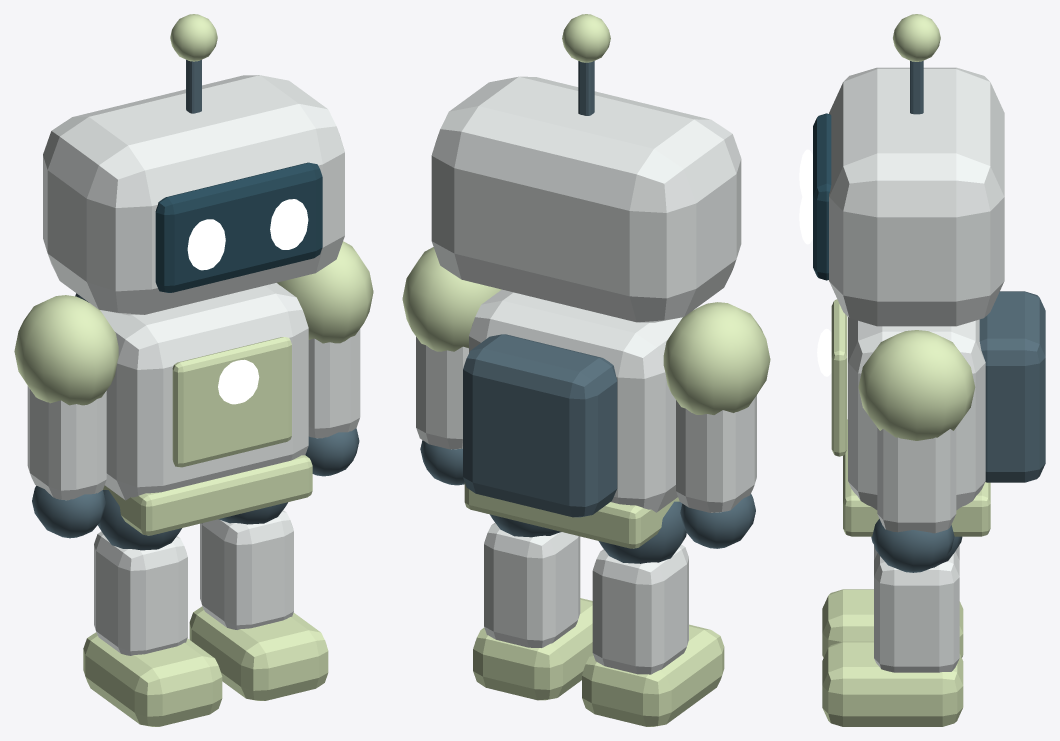
File: sage.glb
3 renders of one model, left to right at view 1: azimuth 30°, elevation 25°; view 2: azimuth 150°, elevation 25°; view 3: azimuth 270°, elevation 25°, orthographic. The views are drawn at different scales.
Parts seen in each view (by area): view 1: Head, Torso, Visor, Chest plate, Leg.017, Leg, Boot.017, Shoulder.017, Boot, Belt, Arm.017, Shoulder (+10 smaller); view 2: Head, Pack, Torso, Leg.017, Leg, Shoulder.017, Boot.017, Arm.017, Boot, Shoulder, Belt, Arm (+6 smaller); view 3: Head, Pack, Shoulder, Torso, Boot, Leg, Arm, Boot.017, Belt, Hand, Visor, Chest plate (+5 smaller).
Part boxes in pixels (x1=…): Head: x1=43, y1=75, x2=344, y2=315; Torso: x1=100, y1=283, x2=308, y2=500; Visor: x1=155, y1=162, x2=322, y2=292; Chest plate: x1=172, y1=337, x2=291, y2=467; Leg.017: x1=94, y1=531, x2=187, y2=655; Leg: x1=200, y1=510, x2=293, y2=629; Boot.017: x1=83, y1=632, x2=222, y2=726; Shoulder.017: x1=14, y1=295, x2=118, y2=405; Boot: x1=189, y1=606, x2=328, y2=700; Belt: x1=103, y1=455, x2=312, y2=535; Arm.017: x1=27, y1=386, x2=106, y2=500; Shoulder: x1=277, y1=241, x2=373, y2=343; Head: x1=431, y1=76, x2=741, y2=322; Pack: x1=463, y1=334, x2=617, y2=517; Torso: x1=469, y1=289, x2=682, y2=512; Leg.017: x1=592, y1=544, x2=688, y2=674; Leg: x1=484, y1=523, x2=580, y2=647; Shoulder.017: x1=663, y1=302, x2=770, y2=414; Boot.017: x1=582, y1=624, x2=724, y2=726; Arm.017: x1=676, y1=395, x2=756, y2=512; Boot: x1=473, y1=598, x2=592, y2=700; Shoulder: x1=402, y1=247, x2=501, y2=351; Belt: x1=464, y1=482, x2=679, y2=548; Arm: x1=416, y1=337, x2=468, y2=449; Head: x1=829, y1=67, x2=1004, y2=326; Pack: x1=979, y1=291, x2=1045, y2=482; Shoulder: x1=858, y1=330, x2=975, y2=440; Torso: x1=848, y1=317, x2=985, y2=510; Boot: x1=822, y1=641, x2=963, y2=726; Leg: x1=874, y1=551, x2=959, y2=672; Arm: x1=877, y1=428, x2=956, y2=533; Boot.017: x1=822, y1=589, x2=963, y2=657; Belt: x1=843, y1=419, x2=990, y2=536; Hand: x1=872, y1=519, x2=954, y2=572; Visor: x1=813, y1=113, x2=831, y2=280; Chest plate: x1=831, y1=299, x2=847, y2=456.
Bounding box in the file's own units: 1.16 × 2.16 × 0.717.
